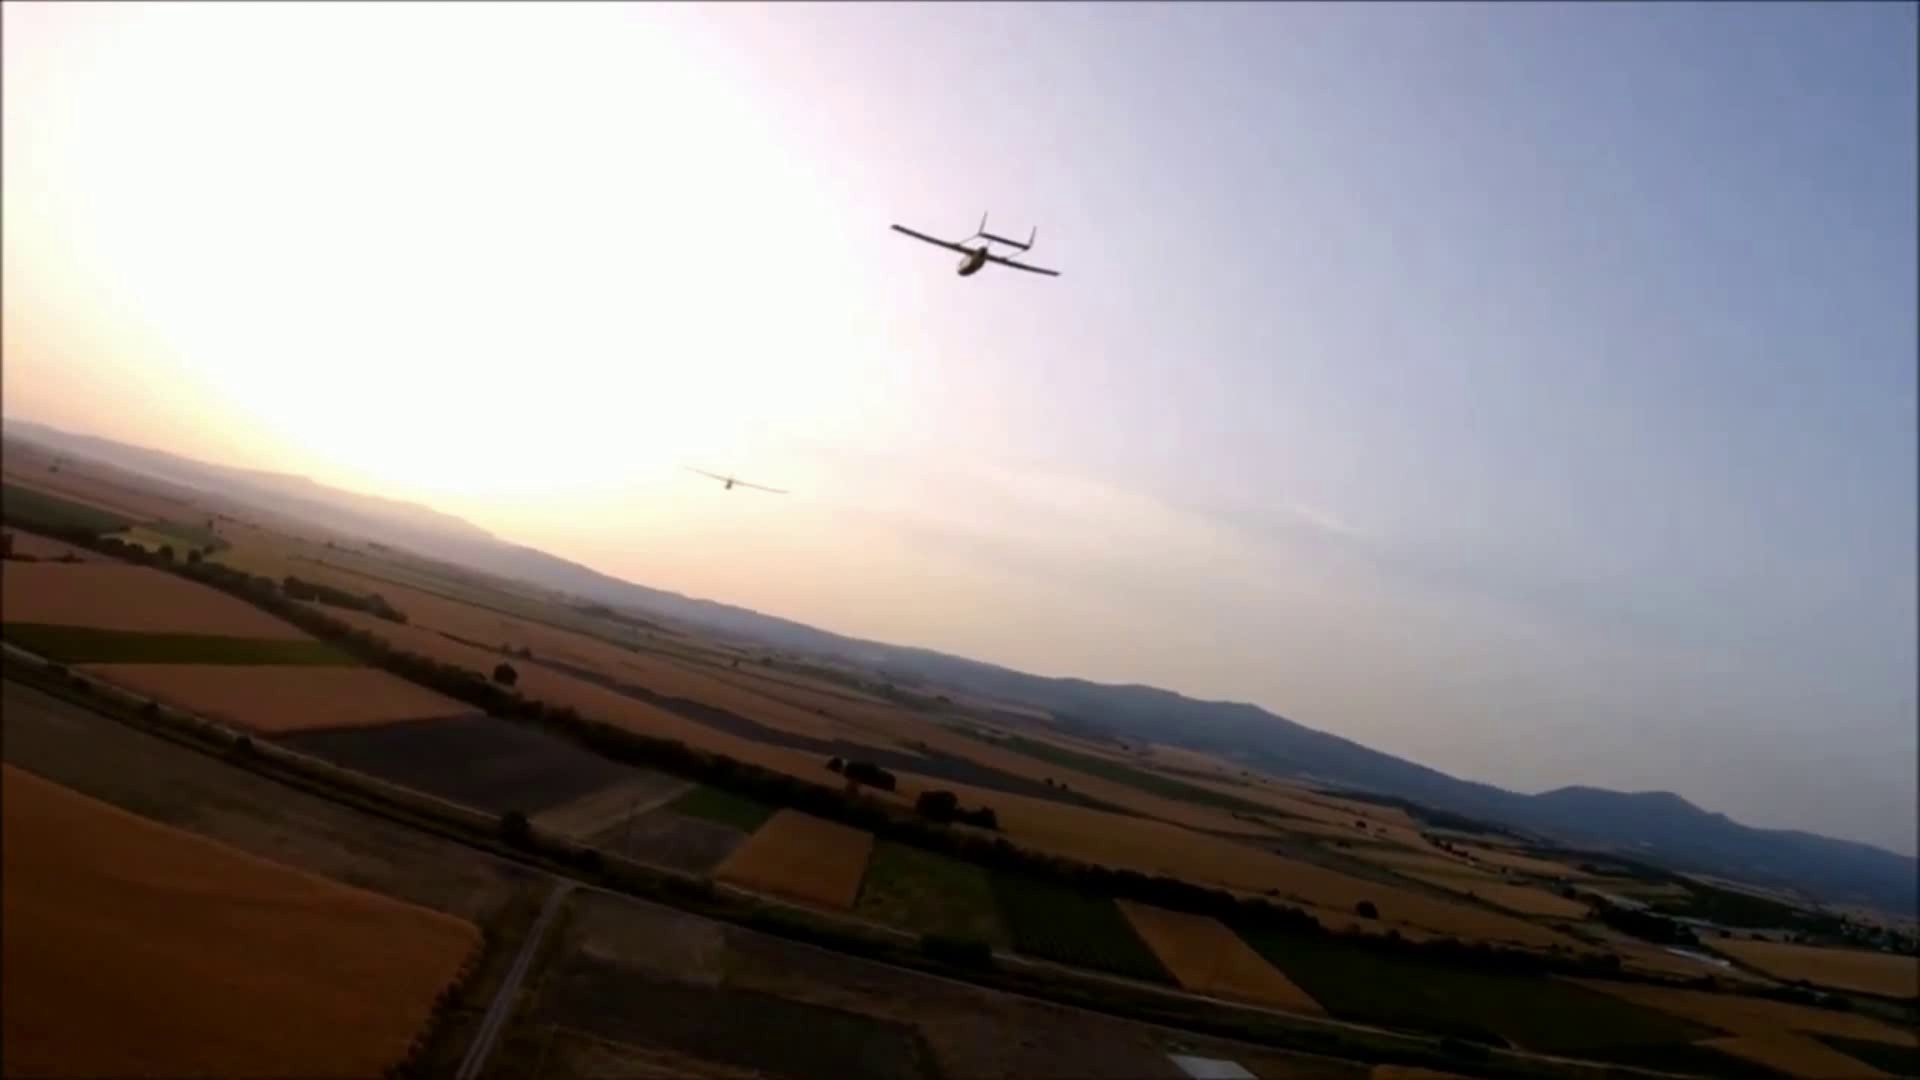airplane: (887, 214, 1062, 280)
